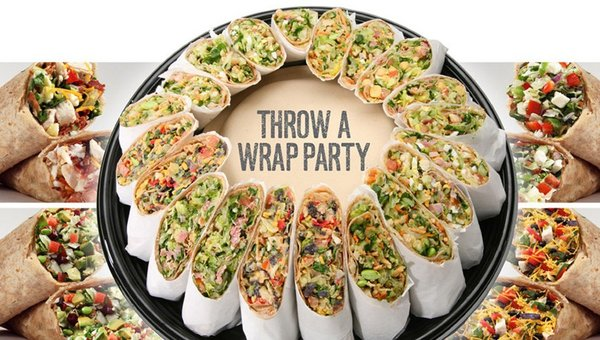curry: (4, 4, 600, 337)
sandwich: (364, 138, 478, 265), (189, 179, 295, 313), (189, 178, 267, 301), (150, 171, 229, 283), (454, 282, 598, 339), (134, 130, 230, 215), (184, 15, 287, 93), (237, 185, 295, 319), (345, 184, 410, 303), (293, 184, 348, 317), (115, 112, 198, 190), (382, 74, 486, 136), (118, 71, 231, 128), (510, 205, 585, 283), (508, 140, 599, 203), (394, 130, 490, 189)
